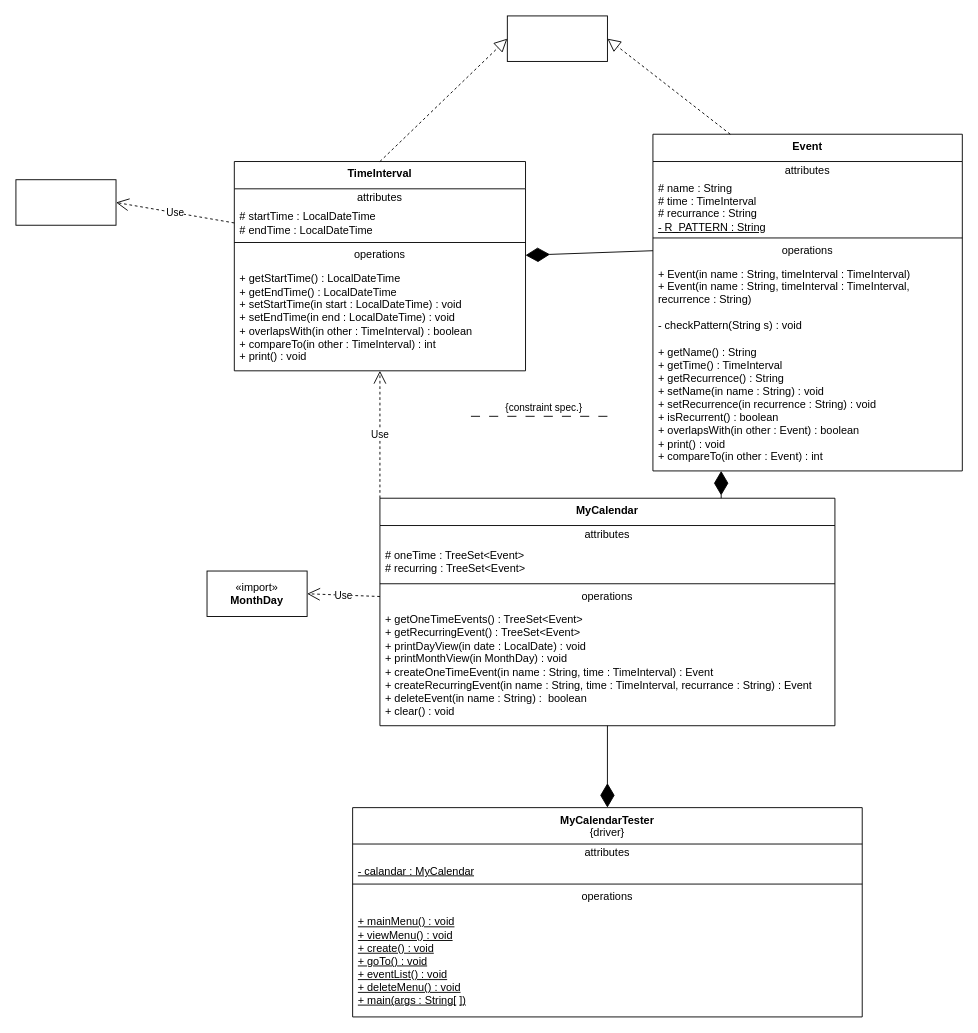
This 978x1033 diagram has some shape labels left out. The centre of each missing label's shape, as x and y in pixels:
"«import» LocalDateTime" goes at (x=65, y=202).
"«interface» Comparable" goes at (x=556, y=38).
